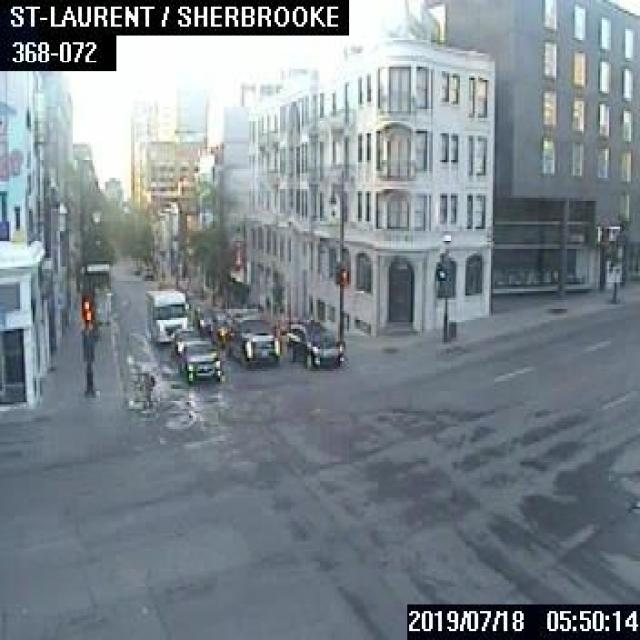pedestrian: (138, 371, 153, 407)
vehicle: (222, 306, 278, 364), (284, 317, 342, 366), (143, 288, 189, 342), (178, 338, 220, 380), (170, 325, 198, 354), (193, 304, 218, 334), (208, 308, 227, 344)
